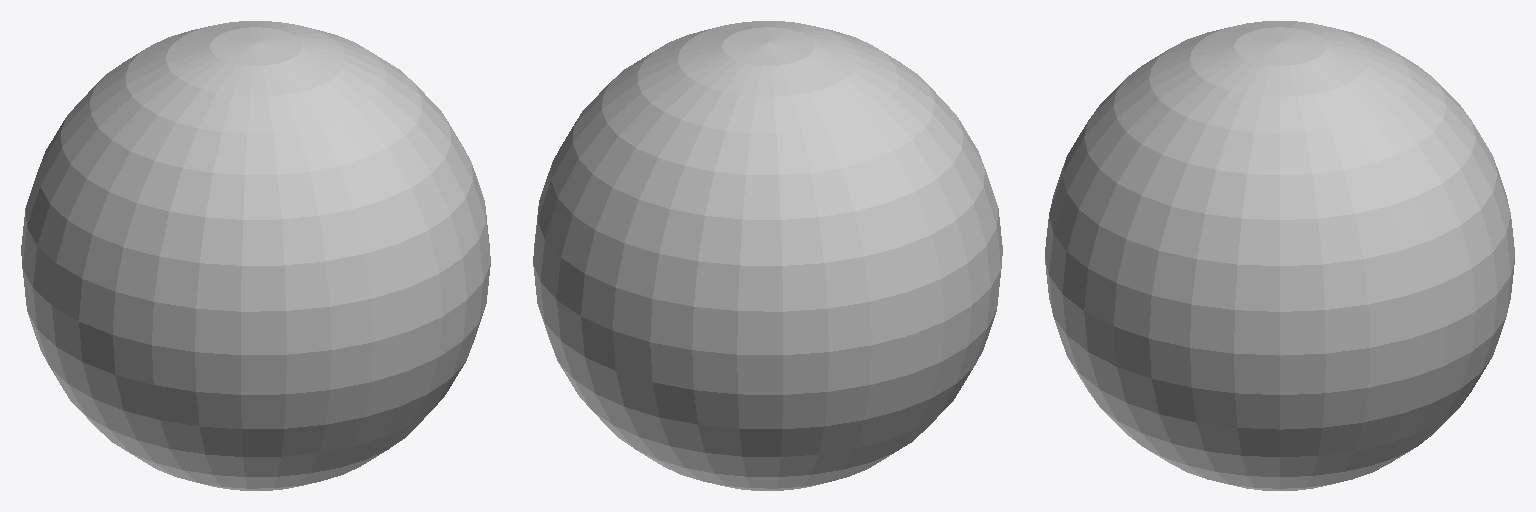
Rendered from light1.obj.
The picture shows the model from 3 angles: view 1: azimuth 30°, elevation 25°; view 2: azimuth 150°, elevation 25°; view 3: azimuth 270°, elevation 25°; orthographic projection.
Visible parts, largest first — view 1: bulb.001_Sphere.001; view 2: bulb.001_Sphere.001; view 3: bulb.001_Sphere.001.
Part boxes in pixels (x1,y1,x2,y2): bulb.001_Sphere.001: (21,21,490,490); bulb.001_Sphere.001: (533,21,1002,490); bulb.001_Sphere.001: (1045,21,1514,490).
Bounding box in the file's own units: 0.9409 × 0.9409 × 0.9409.